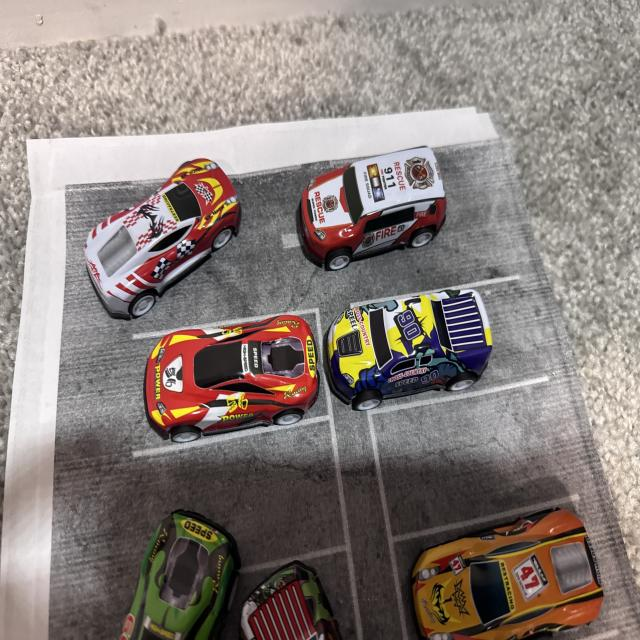car: (136, 282, 354, 444), (372, 505, 613, 634), (332, 288, 539, 389), (64, 158, 209, 302), (284, 161, 448, 272), (128, 497, 238, 640), (245, 527, 366, 640)
